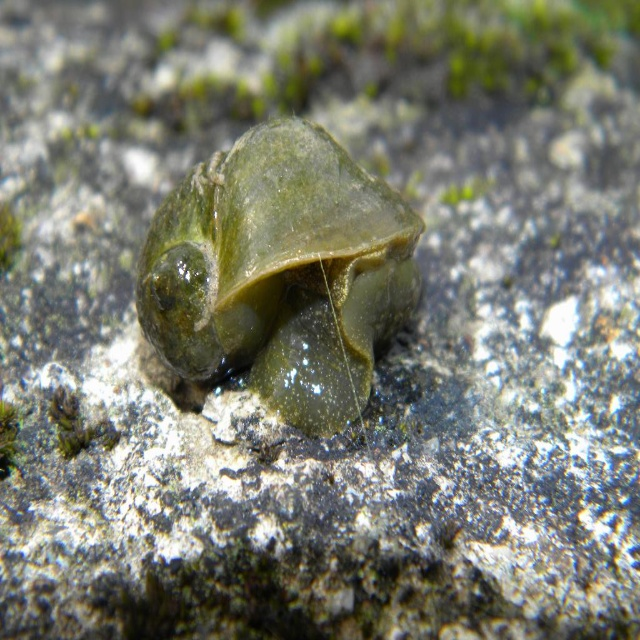Snail: (133, 106, 427, 439)
